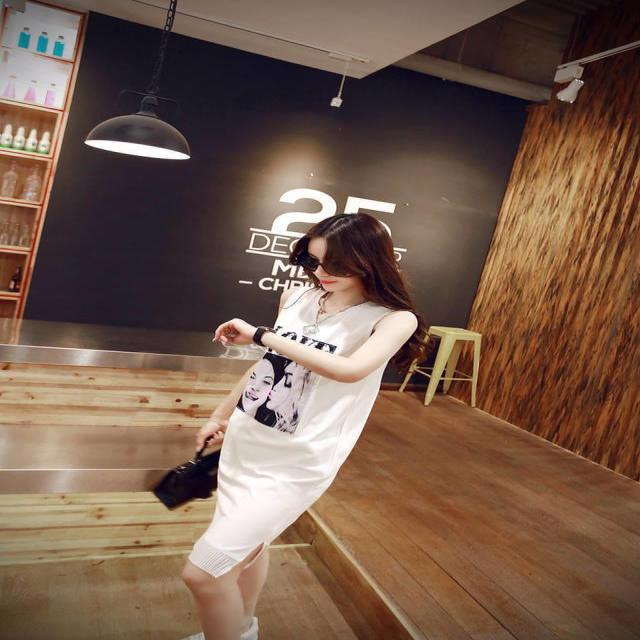vest dress: (187, 288, 398, 578)
